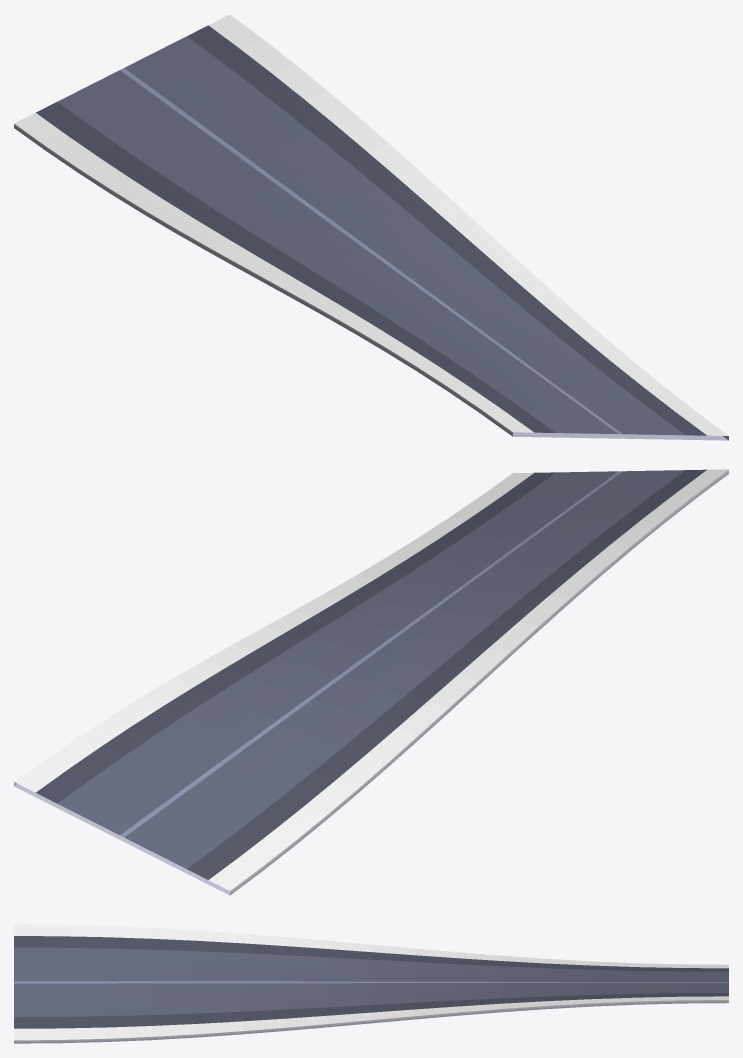
The model's file is road-Straight-HalfBankedRight-HalfBankedLeft-Even-Center-Size4.glb.
3 views of the same model, one above another, from view 1: azimuth 30°, elevation 25°; view 2: azimuth 150°, elevation 25°; view 3: azimuth 270°, elevation 25° (orthographic). The views are drawn at different scales.
Parts seen in each view (by area): view 1: road-Straight-HalfBankedRight-HalfBankedLeft-Even-Center-Siz; view 2: road-Straight-HalfBankedRight-HalfBankedLeft-Even-Center-Siz; view 3: road-Straight-HalfBankedRight-HalfBankedLeft-Even-Center-Siz.
Boxes of the visible parts, x1,y1,x2,y2 form: road-Straight-HalfBankedRight-HalfBankedLeft-Even-Center-Siz: (14, 14, 728, 440); road-Straight-HalfBankedRight-HalfBankedLeft-Even-Center-Siz: (14, 469, 728, 895); road-Straight-HalfBankedRight-HalfBankedLeft-Even-Center-Siz: (14, 924, 728, 1043).
Size of the model in its own units: 1 by 0.27 by 4.
1 material, 1 textured.
